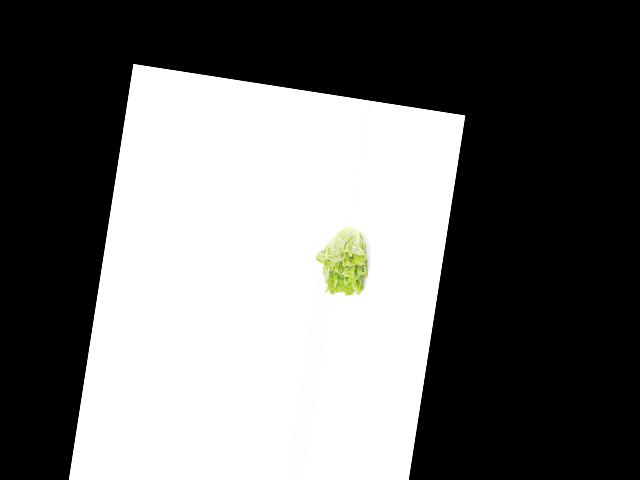lettuce: (311, 222, 378, 299)
